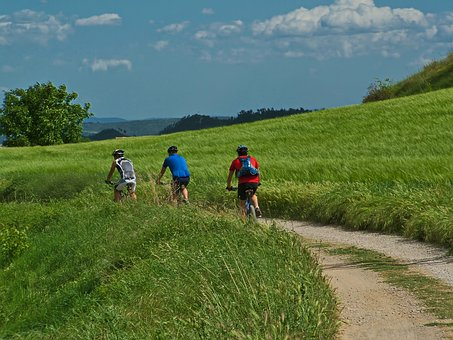bikerider: (220, 142, 268, 226), (101, 145, 147, 214), (156, 145, 197, 209)
